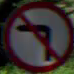Don't turn left: (9, 11, 60, 66)
